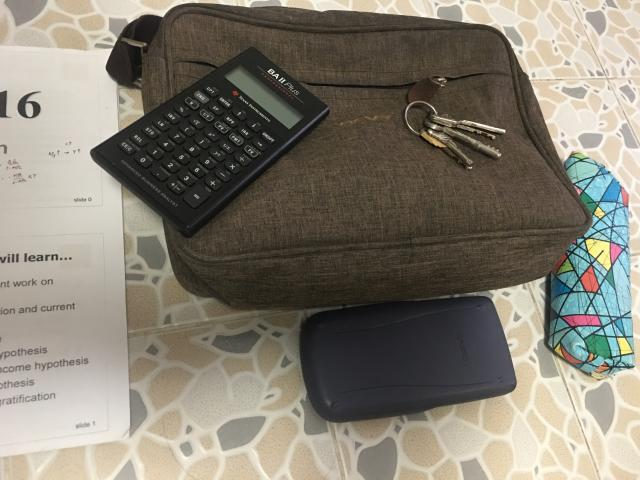Keys: (404, 100, 507, 170)
paper: (0, 46, 130, 456)
